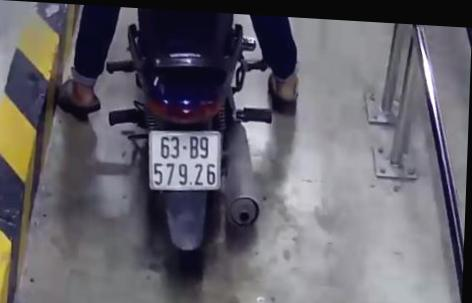License_Plate: (140, 126, 230, 198)
